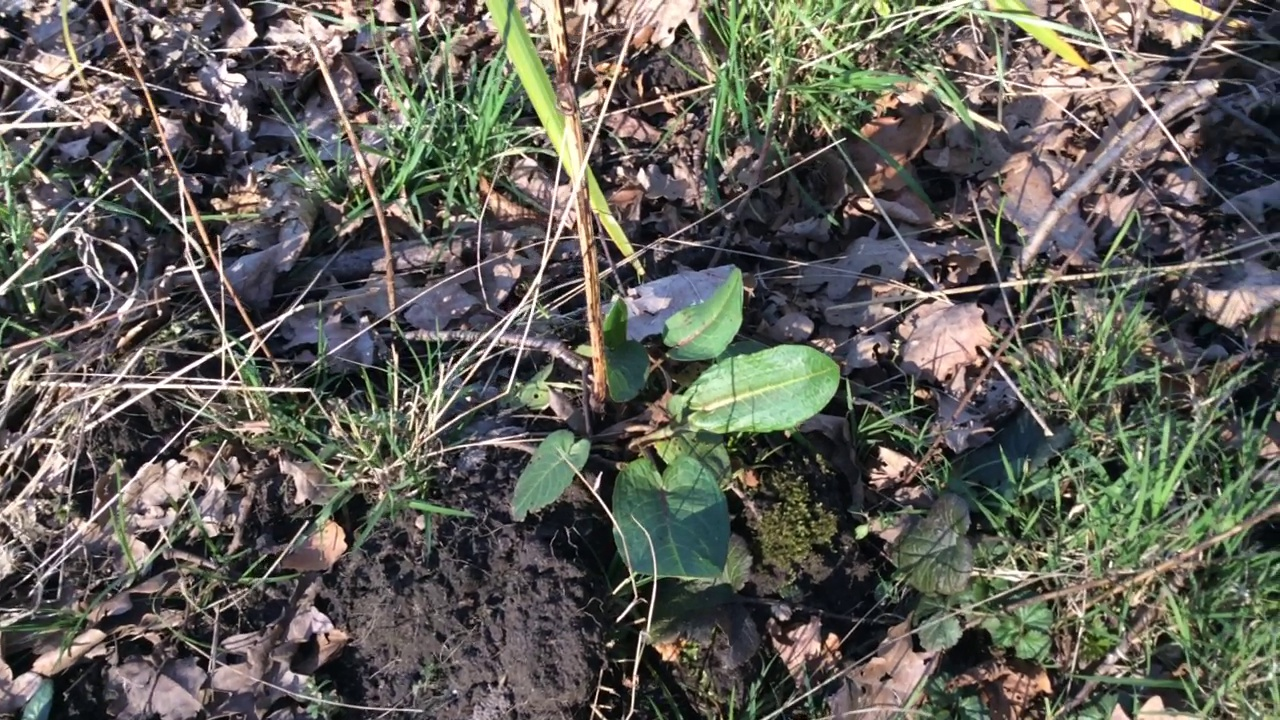rumex: (513, 268, 841, 581)
